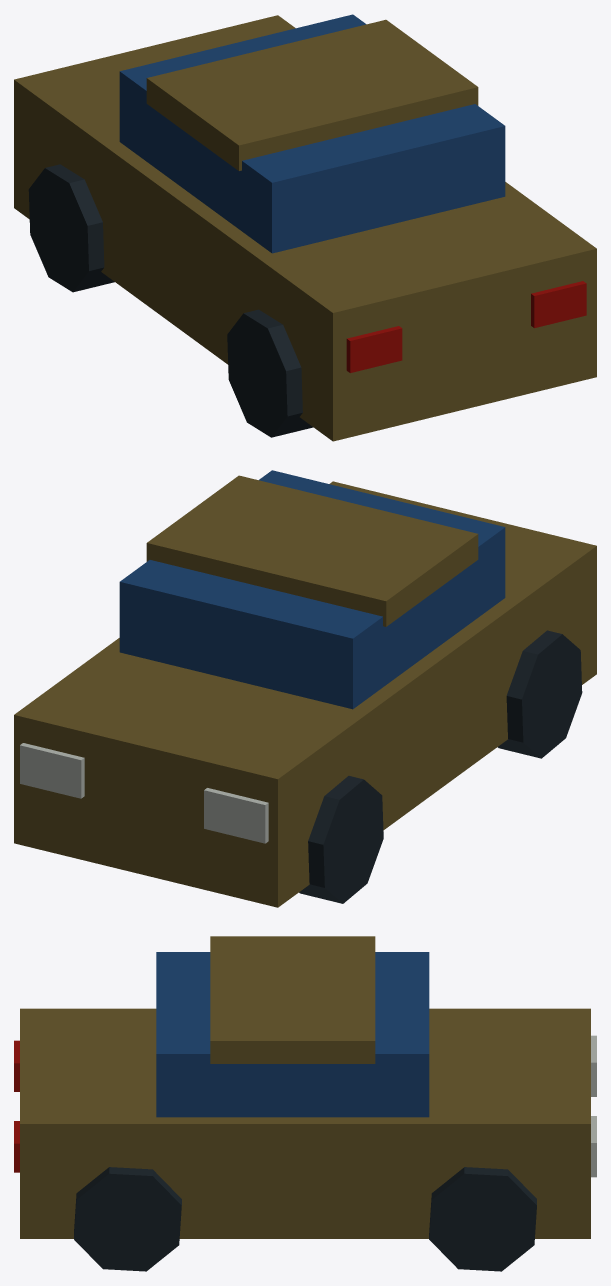
Rendered from car-ochre.glb.
3 views of the same model, one above another, from view 1: azimuth 30°, elevation 25°; view 2: azimuth 150°, elevation 25°; view 3: azimuth 270°, elevation 25° (orthographic). The views are drawn at different scales.
Parts seen in each view (by area): view 1: car-ochre; view 2: car-ochre; view 3: car-ochre.
Boxes of the visible parts, x1=… form: car-ochre: x1=14, y1=14, x2=596, y2=441; car-ochre: x1=14, y1=470, x2=596, y2=907; car-ochre: x1=14, y1=936, x2=596, y2=1271.
Bounding box in the file's own units: 4.8 × 3.8 × 9.19.
